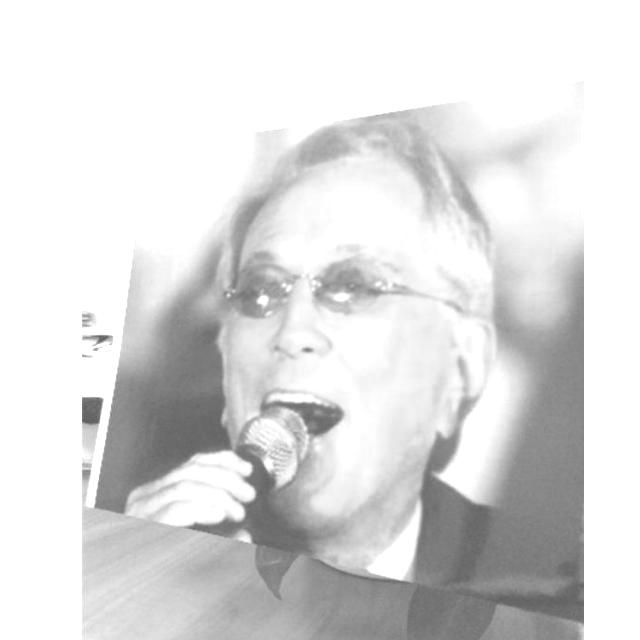fake: (84, 70, 583, 631)
